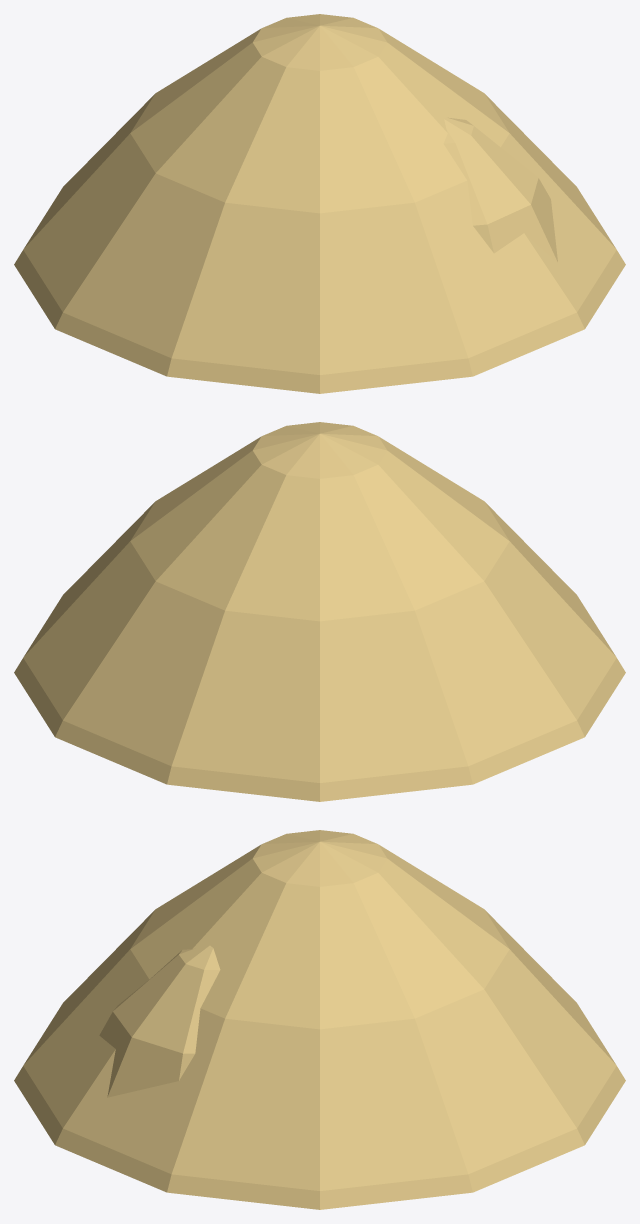
File: pile_sand_a.glb
3 renders of one model, top to bottom at view 1: azimuth 30°, elevation 25°; view 2: azimuth 150°, elevation 25°; view 3: azimuth 270°, elevation 25°, orthographic.
Parts seen in each view (by area): view 1: pile_sand_a; view 2: pile_sand_a; view 3: pile_sand_a.
Boxes of the visible parts, x1,y1,x2,y2 form: pile_sand_a: (14,14,625,393); pile_sand_a: (14,422,625,801); pile_sand_a: (14,830,625,1209).
Bounding box in the file's own units: 13 × 5.6 × 13.
